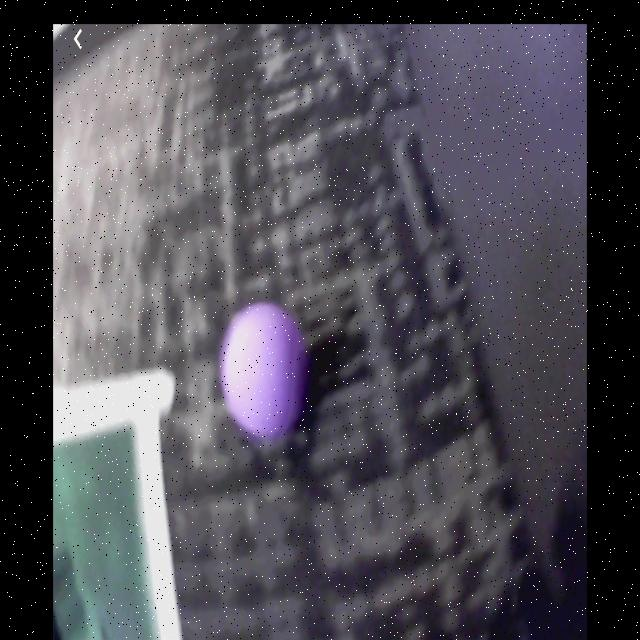ball: (222, 303, 306, 447)
